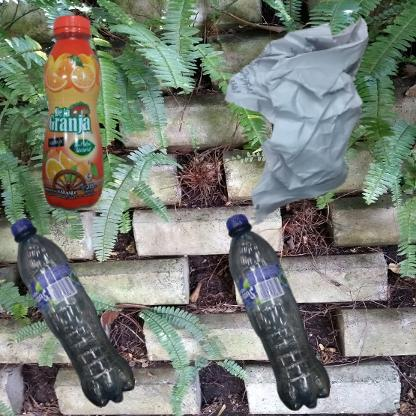botella: (10, 10, 160, 249), (213, 213, 345, 416), (10, 213, 138, 416)
papel: (213, 10, 406, 236)
